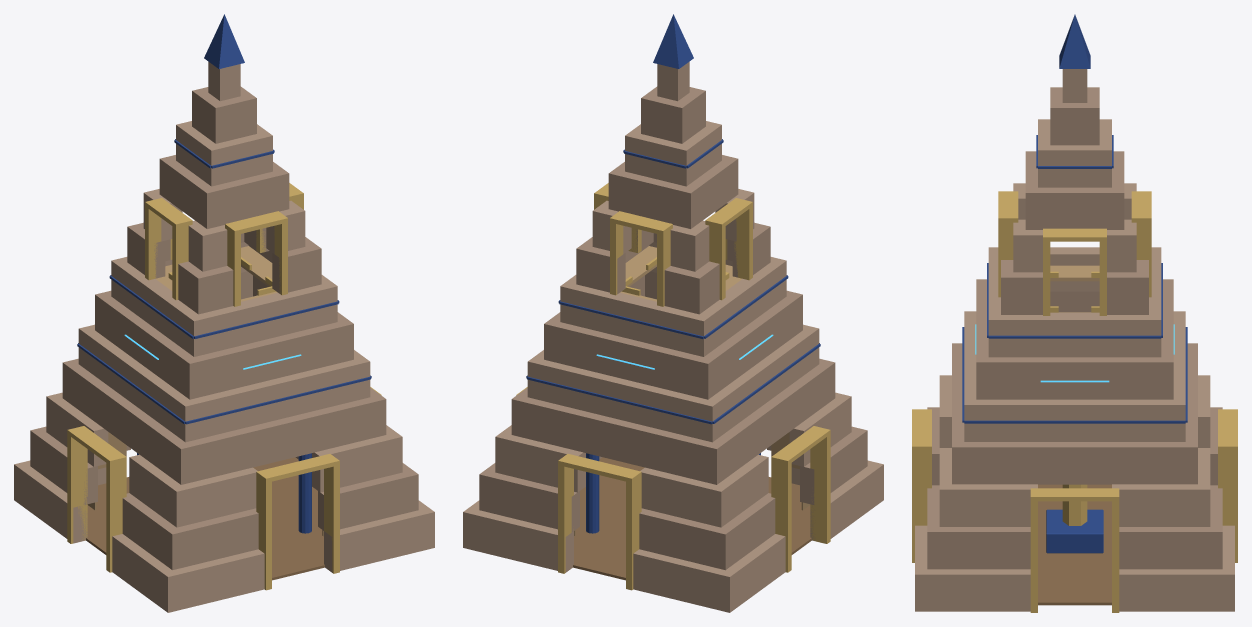
The model's file is 05_dusk_pyramid.glb.
The picture shows the model from 3 angles, left to right: view 1: azimuth 30°, elevation 25°; view 2: azimuth 150°, elevation 25°; view 3: azimuth 270°, elevation 25°; orthographic projection. The views are drawn at different scales.
Visible parts, largest first — view 1: evening_steps_nocol, evening_frames_nocol, evening_floor, evening_trim_nocol_noshadow, evening_cap_nocol, evening_galleries, evening_columns; view 2: evening_steps_nocol, evening_frames_nocol, evening_floor, evening_trim_nocol_noshadow, evening_cap_nocol, evening_galleries, evening_columns; view 3: evening_steps_nocol, evening_frames_nocol, evening_floor, evening_trim_nocol_noshadow, evening_obelisk_base, evening_cap_nocol, evening_galleries, evening_obelisk.
Part boxes in pixels (<box>): evening_steps_nocol: <box>14,61,434,612</box>; evening_frames_nocol: <box>67,183,381,590</box>; evening_floor: <box>86,457,324,580</box>; evening_trim_nocol_noshadow: <box>77,139,371,424</box>; evening_cap_nocol: <box>204,14,244,68</box>; evening_galleries: <box>155,246,277,301</box>; evening_columns: <box>137,453,311,533</box>; evening_steps_nocol: <box>463,61,883,612</box>; evening_frames_nocol: <box>516,183,830,590</box>; evening_floor: <box>573,457,811,580</box>; evening_trim_nocol_noshadow: <box>526,139,820,424</box>; evening_cap_nocol: <box>653,14,693,68</box>; evening_galleries: <box>620,246,742,301</box>; evening_columns: <box>586,453,760,533</box>; evening_steps_nocol: <box>915,69,1234,611</box>; evening_frames_nocol: <box>912,191,1237,612</box>; evening_floor: <box>1038,484,1111,605</box>; evening_trim_nocol_noshadow: <box>962,135,1187,423</box>; evening_obelisk_base: <box>1046,509,1103,553</box>; evening_cap_nocol: <box>1059,14,1090,68</box>; evening_galleries: <box>1050,265,1099,312</box>; evening_obelisk: <box>1062,484,1087,525</box>.
Size of what is drawn, in the model's own units: 79.4 by 142 by 79.4.
